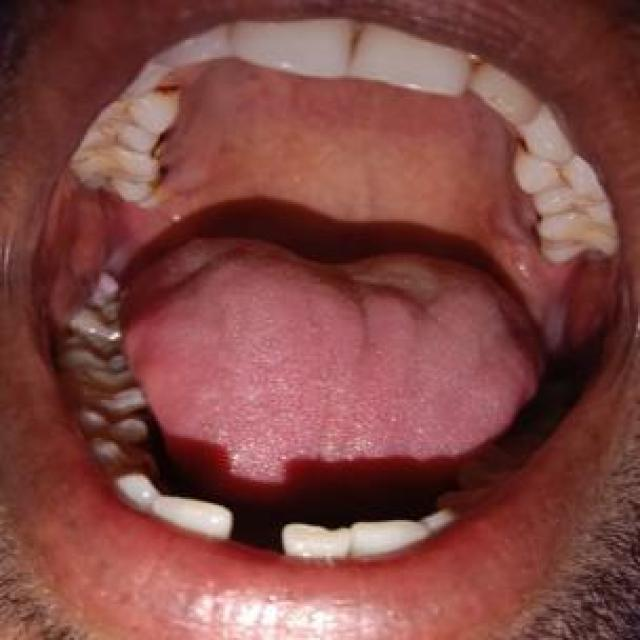processing_area: (25, 64, 622, 481)
